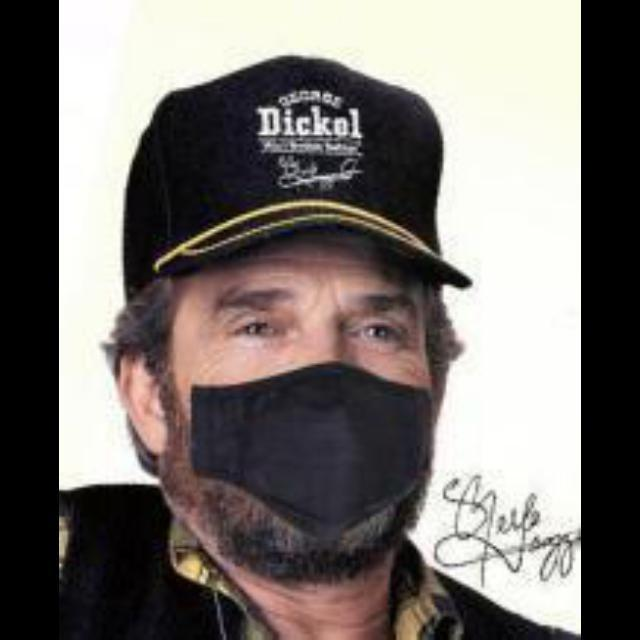suspicion: (160, 73, 486, 601)
